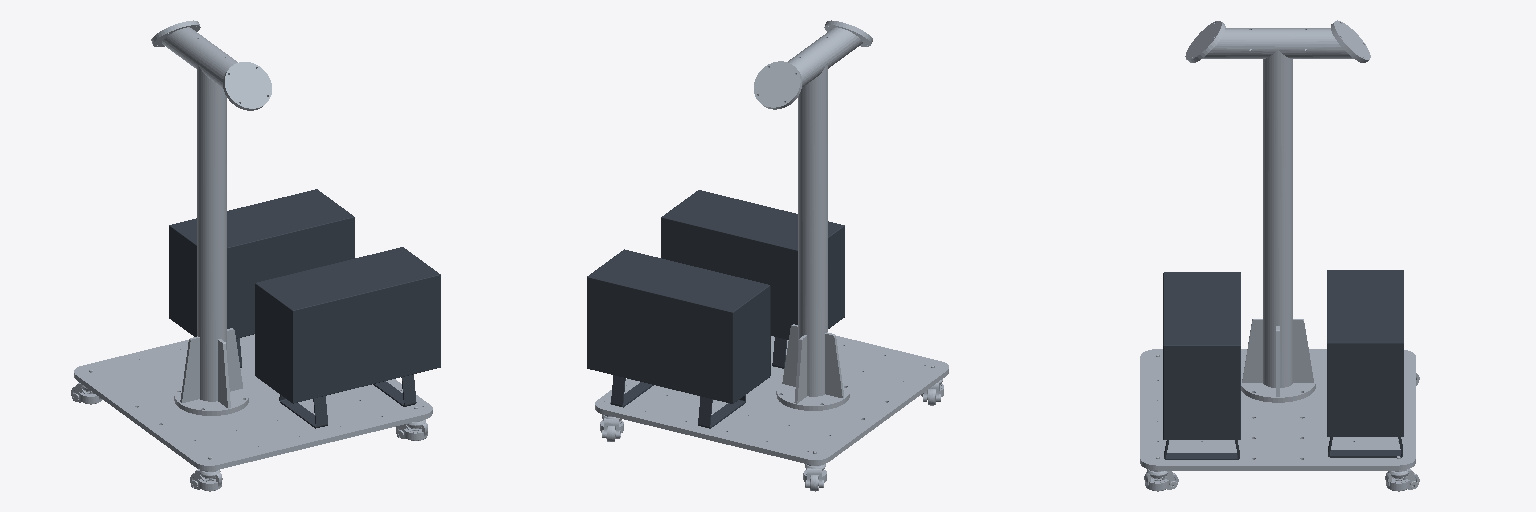
URDF robot description (elite_cs66_a1_stand):
<?xml version='1.0' encoding='utf-8'?>
<robot name="elite_cs66_a1_stand">
  <link name="elite_cs66_a1_stand_base">
    <visual name="part_00">
      <geometry>
        <mesh filename="../meshes/part_00.stl" />
      </geometry>
      <material name="part_00_color">
        <color rgba="0.7 0.73 0.77 1" />
      </material>
    </visual>
    <visual name="part_01">
      <geometry>
        <mesh filename="../meshes/part_01.stl" />
      </geometry>
      <material name="part_01_color">
        <color rgba="0.7 0.73 0.77 1" />
      </material>
    </visual>
    <visual name="part_02">
      <geometry>
        <mesh filename="../meshes/part_02.stl" />
      </geometry>
      <material name="part_02_color">
        <color rgba="0.7 0.73 0.77 1" />
      </material>
    </visual>
    <visual name="part_03">
      <geometry>
        <mesh filename="../meshes/part_03.stl" />
      </geometry>
      <material name="part_03_color">
        <color rgba="0.7 0.73 0.77 1" />
      </material>
    </visual>
    <visual name="part_04">
      <geometry>
        <mesh filename="../meshes/part_04.stl" />
      </geometry>
      <material name="part_04_color">
        <color rgba="0.7 0.73 0.77 1" />
      </material>
    </visual>
    <visual name="part_05">
      <geometry>
        <mesh filename="../meshes/part_05.stl" />
      </geometry>
      <material name="part_05_color">
        <color rgba="0.7 0.73 0.77 1" />
      </material>
    </visual>
    <visual name="part_06">
      <geometry>
        <mesh filename="../meshes/part_06.stl" />
      </geometry>
      <material name="part_06_color">
        <color rgba="0.29 0.32 0.36 1" />
      </material>
    </visual>
    <visual name="part_07">
      <geometry>
        <mesh filename="../meshes/part_07.stl" />
      </geometry>
      <material name="part_07_color">
        <color rgba="0.29 0.32 0.36 1" />
      </material>
    </visual>
    <collision name="part_00_rib_00">
      <geometry>
        <mesh filename="../meshes/collision/part_00_rib_00.stl" />
      </geometry>
    </collision>
    <collision name="part_00_rib_01">
      <geometry>
        <mesh filename="../meshes/collision/part_00_rib_01.stl" />
      </geometry>
    </collision>
    <collision name="part_00_rib_02">
      <geometry>
        <mesh filename="../meshes/collision/part_00_rib_02.stl" />
      </geometry>
    </collision>
    <collision name="part_00_rib_03">
      <geometry>
        <mesh filename="../meshes/collision/part_00_rib_03.stl" />
      </geometry>
    </collision>
    <collision name="part_00_00">
      <origin xyz="0.079733886578398305 -0.067776960061789931 0.66389548327193171" rpy="0 0 -3.1415926535897931" />
      <geometry>
        <cylinder radius="0.044500000000000005" length="1.084" />
      </geometry>
    </collision>
    <collision name="part_00_01">
      <origin xyz="0.079733886578398305 -0.06777696006178989 1.2058954832719317" rpy="0 1.5707963267948966 1.5707963267948966" />
      <geometry>
        <cylinder radius="0.044500000000000005" length="0.5004944423582725" />
      </geometry>
    </collision>
    <collision name="part_00_02">
      <origin xyz="0.079733886578398305 -0.27858026092068955 1.2111987841308309" rpy="0 2.35619449019234 1.5707963267948966" />
      <geometry>
        <cylinder radius="0.075" length="0.014999999999999902" />
      </geometry>
    </collision>
    <collision name="part_00_03">
      <origin xyz="0.079733886578398305 0.14302634079710852 1.2111987841308309" rpy="0 0.78539816339744295 1.5707963267948966" />
      <geometry>
        <cylinder radius="0.07500000000000001" length="0.015000000000000124" />
      </geometry>
    </collision>
    <collision name="part_00_04">
      <origin xyz="0.079733886578398305 -0.067776960061789931 0.11389548327193166" rpy="0 0 0" />
      <geometry>
        <cylinder radius="0.11" length="0.016000000000000014" />
      </geometry>
    </collision>
    <collision name="part_01_00">
      <origin xyz="0.56525483727455139 -0.40635137259960175 0.055697742849588394" rpy="0 0 0" />
      <geometry>
        <box size="0.082228243350982666 0.099349409341812134 0.11139548569917679" />
      </geometry>
    </collision>
    <collision name="part_02_00">
      <origin xyz="-0.13474516198039055 0.29364863783121109 0.055697742849588394" rpy="0 0 0" />
      <geometry>
        <box size="0.082228280603885651 0.099349424242973328 0.11139548569917679" />
      </geometry>
    </collision>
    <collision name="part_03_00">
      <origin xyz="0.56525483727455139 0.29364863783121109 0.055697742849588394" rpy="0 0 0" />
      <geometry>
        <box size="0.082228243350982666 0.099349424242973328 0.11139548569917679" />
      </geometry>
    </collision>
    <collision name="part_04_00">
      <origin xyz="-0.1346549391746521 -0.40632441639900208 0.055697742849588394" rpy="0 0 0" />
      <geometry>
        <box size="0.082063972949981689 0.099496722221374512 0.11139548569917679" />
      </geometry>
    </collision>
    <collision name="part_05_00">
      <origin xyz="0.22115525603294373 -0.067776963114738464 0.097895484417676926" rpy="0 0 0" />
      <geometry>
        <box size="0.80000001192092896 0.79999998211860657 0.015999995172023773" />
      </geometry>
    </collision>
    <collision name="part_06_00">
      <origin xyz="0.41502665728330612 -0.28857827931642532 0.30889547988772392" rpy="0 0 0" />
      <geometry>
        <box size="0.50500001013278961 0.22500000894069672 0.40599999576807022" />
      </geometry>
    </collision>
    <collision name="part_07_00">
      <origin xyz="0.39710664004087448 0.1866452768445015 0.30889547988772392" rpy="0 0 0" />
      <geometry>
        <box size="0.50500001013278961 0.22500000894069672 0.40599999576807022" />
      </geometry>
    </collision>
  </link>
  <link name="left_arm_mount" />
  <joint name="left_mount_frame" type="fixed">
    <parent link="elite_cs66_a1_stand_base" />
    <child link="left_arm_mount" />
    <origin xyz="0.0797338865783983 0.148329641656007 1.21650208498973" rpy="-0.785398163397443 2.22044604925031e-16 0" />
  </joint>
  <link name="right_arm_mount" />
  <joint name="right_mount_frame" type="fixed">
    <parent link="elite_cs66_a1_stand_base" />
    <child link="right_arm_mount" />
    <origin xyz="0.0797338865783983 -0.283883561779589 1.21650208498973" rpy="0.785398163397453 0 3.88578058618805e-16" />
  </joint>
</robot>

--- What the picture shows (computed from the rendered views, not written in the file) ---
Views: 3 orthographic renders of the robot side by side, from view 1: azimuth 30°, elevation 25°; view 2: azimuth 150°, elevation 25°; view 3: azimuth 270°, elevation 25°.
Robot: elite_cs66_a1_stand — 3 links, 2 joints (2 fixed); root link elite_cs66_a1_stand_base; default pose: all joints at 0.
Links seen in each view (by area): view 1: elite_cs66_a1_stand_base; view 2: elite_cs66_a1_stand_base; view 3: elite_cs66_a1_stand_base.
Link boxes in pixels (x1,y1,x2,y2): elite_cs66_a1_stand_base: [71, 20, 440, 491]; elite_cs66_a1_stand_base: [587, 20, 948, 491]; elite_cs66_a1_stand_base: [1140, 20, 1419, 491].
Bounding box of the posed robot: 0.8464 × 0.8111 × 1.27 m (x, y, z).
8 mesh visuals loaded from 8 distinct referenced files (8 binary STL).
